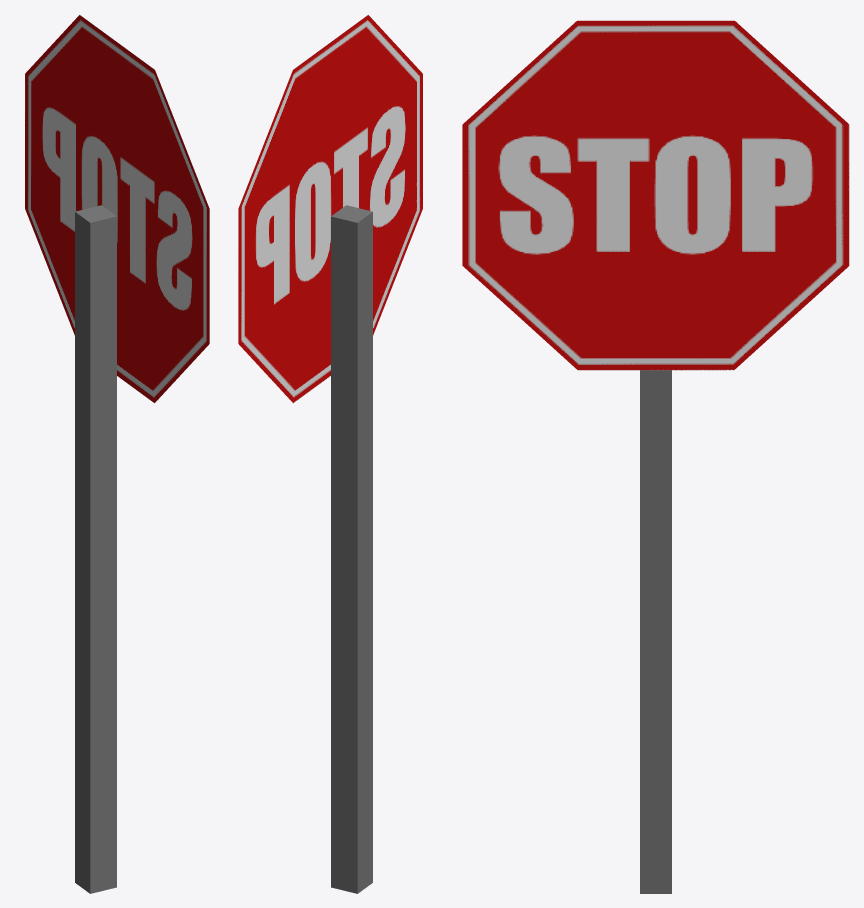
The model's file is StopSign.fbx.
3 renders of one model, left to right at view 1: azimuth 30°, elevation 25°; view 2: azimuth 150°, elevation 25°; view 3: azimuth 270°, elevation 25°, orthographic. The views are drawn at different scales.
Parts seen in each view (by area): view 1: pCube2, pCube1; view 2: pCube2, pCube1; view 3: pCube2, pCube1.
Part boxes in pixels (x1,y1,x2,y2): pCube2: (25,15,209,403); pCube1: (75,205,116,893); pCube2: (238,15,422,403); pCube1: (331,205,372,893); pCube2: (462,20,849,370); pCube1: (640,370,671,893).
Size of the model in its own units: 0.65 by 15 by 6.
